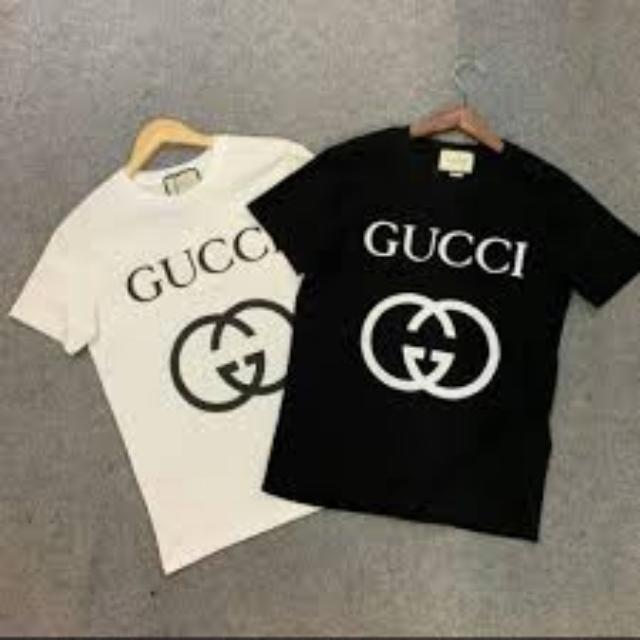Gucci: (354, 288, 504, 402), (109, 215, 295, 302), (165, 300, 305, 414), (358, 210, 534, 284)
